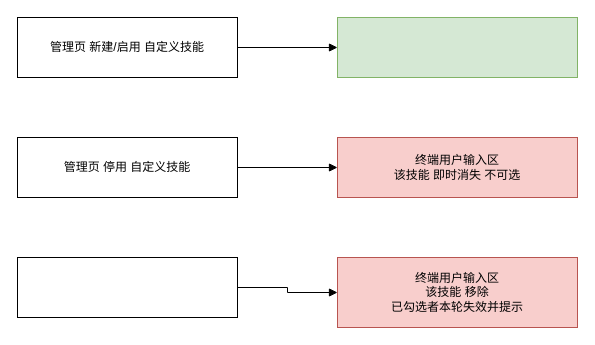
Some shapes in this 595 by 345 pixel diagram are drawn without their labels. The shapes that lost their labels are listed below. From the top down, each one's centre as x and y in pixels, then its label:
the point at 457,47: 终端用户输入区 该技能 即时出现 可选
the point at 127,287: 管理页 删除 自定义技能
